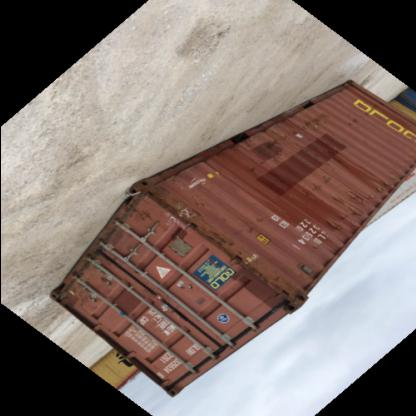Damage: (207, 214, 290, 300), (324, 184, 368, 230), (292, 108, 327, 142), (173, 192, 200, 226), (258, 134, 286, 166), (92, 264, 120, 296), (370, 169, 397, 200), (126, 202, 156, 226), (176, 276, 200, 298), (344, 115, 366, 132)
